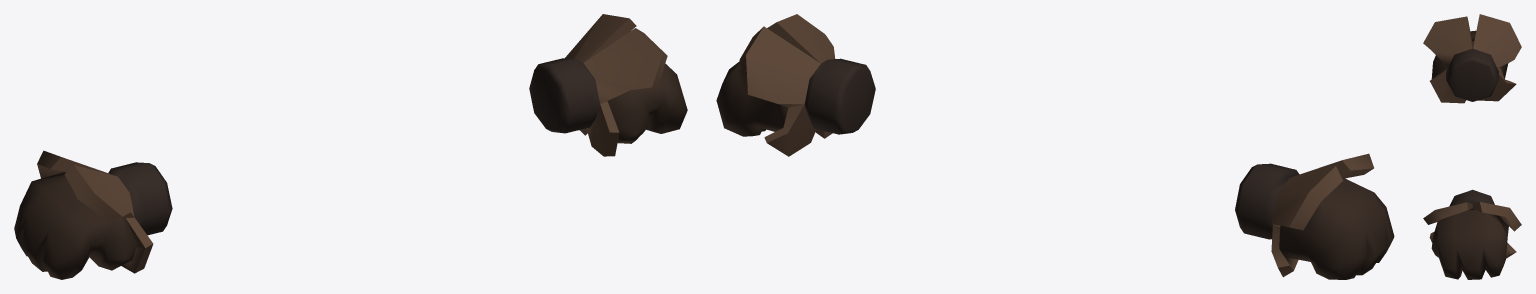
File: Glove_37.fbx
3 renders of one model, left to right at view 1: azimuth 30°, elevation 25°; view 2: azimuth 150°, elevation 25°; view 3: azimuth 270°, elevation 25°, orthographic. The views are drawn at different scales.
Parts seen in each view (by area): view 1: Glove_37; view 2: Glove_37; view 3: Glove_37.
Part boxes in pixels (box(x1,y1,x2,y2)): Glove_37: box(14, 14, 687, 279); Glove_37: box(716, 14, 1394, 279); Glove_37: box(1423, 14, 1521, 279).
Size of the model in its own units: 134 by 21.72 by 26.08.
